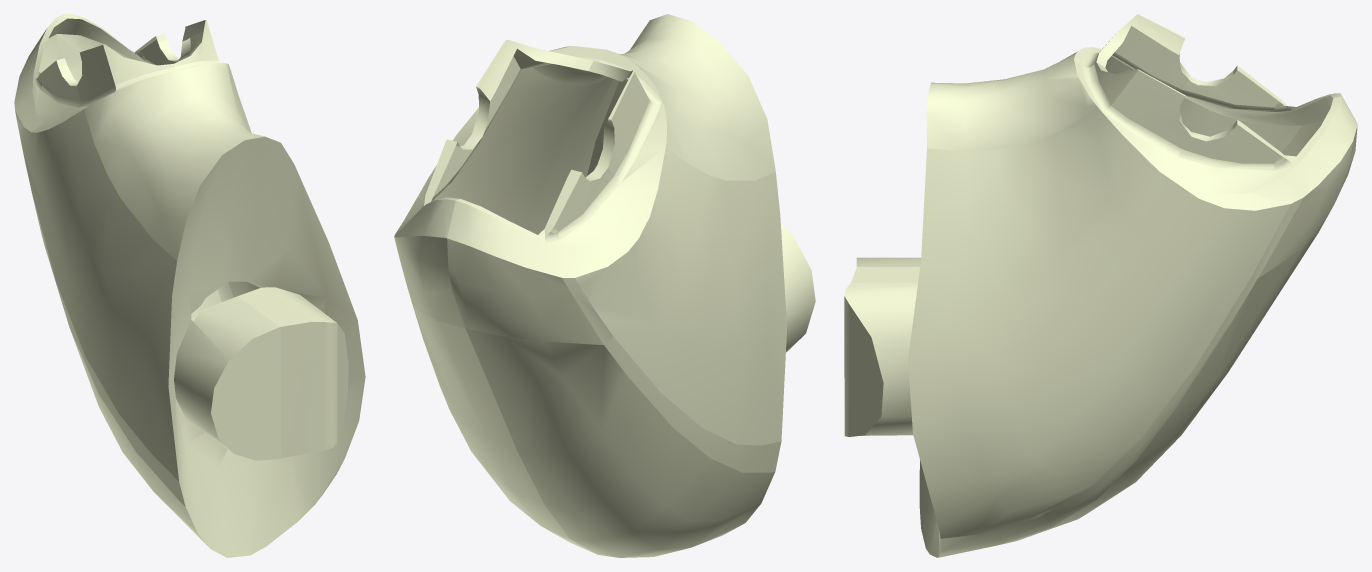
The model's file is right_thumb_base.dae.
The picture shows the model from 3 angles, left to right: view 1: azimuth 30°, elevation 25°; view 2: azimuth 150°, elevation 25°; view 3: azimuth 270°, elevation 25°; orthographic projection. The views are drawn at different scales.
Visible parts, largest first — view 1: ShapeIndexedFaceSet; view 2: ShapeIndexedFaceSet; view 3: ShapeIndexedFaceSet.
Boxes of the visible parts, bbox=[...] form: ShapeIndexedFaceSet: bbox=[14, 14, 365, 557]; ShapeIndexedFaceSet: bbox=[394, 14, 815, 557]; ShapeIndexedFaceSet: bbox=[844, 14, 1357, 557].
Bounding box in the file's own units: 0.0469 × 0.0924 × 0.1006.
